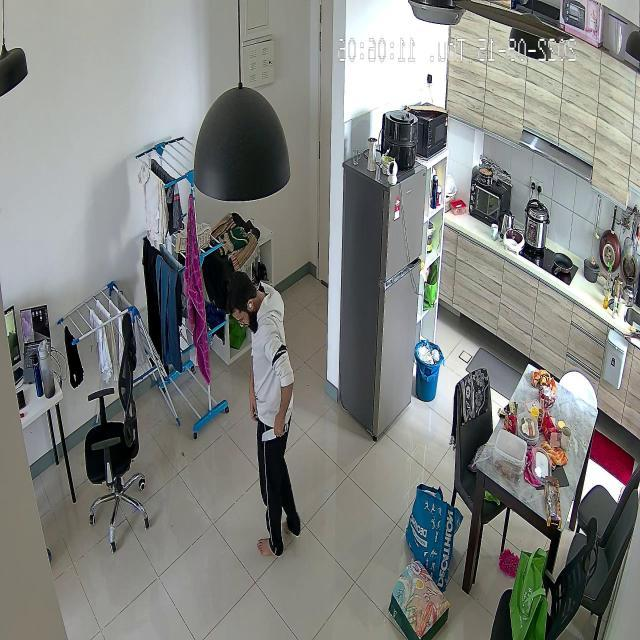Knife: (248, 412, 302, 450)
